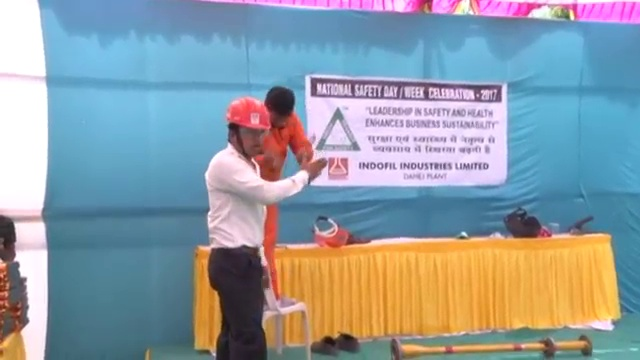helmet: (224, 94, 272, 132)
helmet_off: (265, 83, 295, 128)
helmet_on: (222, 92, 272, 160)
person: (196, 92, 324, 360), (250, 74, 323, 298)
